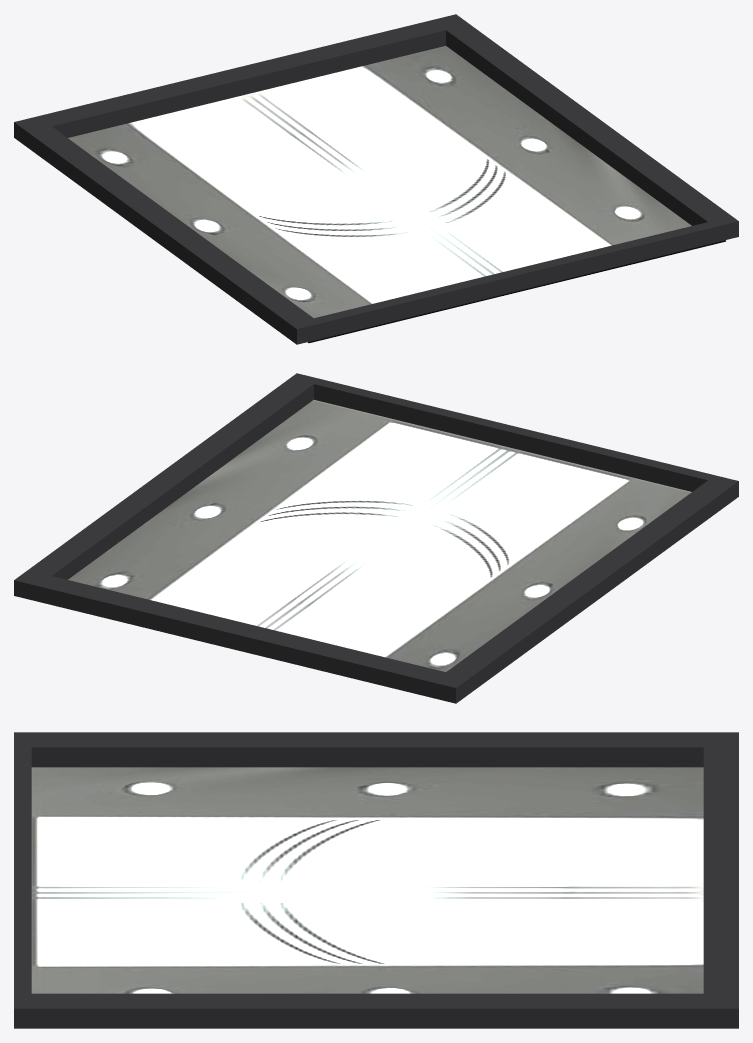
Rendered from ceiling_DD103.glb.
3 views of the same model, one above another, from view 1: azimuth 30°, elevation 25°; view 2: azimuth 150°, elevation 25°; view 3: azimuth 270°, elevation 25° (orthographic). The views are drawn at different scales.
Visible parts, largest first — view 1: Ceiling_Shell, Ceiling_Mirror, Ceiling_Panel_R, Ceiling_Panel_L; view 2: Ceiling_Shell, Ceiling_Mirror, Ceiling_Panel_R, Ceiling_Panel_L; view 3: Ceiling_Shell, Ceiling_Mirror, Ceiling_Panel_L, Ceiling_Panel_R.
Boxes of the visible parts, left/top/right/bottom form: Ceiling_Shell: left=14, top=14, right=738, bottom=344; Ceiling_Mirror: left=173, top=76, right=592, bottom=310; Ceiling_Panel_R: left=322, top=46, right=726, bottom=273; Ceiling_Panel_L: left=68, top=112, right=442, bottom=343; Ceiling_Shell: left=14, top=373, right=738, bottom=703; Ceiling_Mirror: left=192, top=430, right=586, bottom=646; Ceiling_Panel_R: left=68, top=400, right=437, bottom=609; Ceiling_Panel_L: left=341, top=466, right=691, bottom=671; Ceiling_Shell: left=14, top=732, right=738, bottom=1028; Ceiling_Mirror: left=31, top=845, right=703, bottom=939; Ceiling_Panel_L: left=31, top=767, right=703, bottom=845; Ceiling_Panel_R: left=31, top=939, right=703, bottom=993.
Bounding box in the file's own units: 1.48 × 0.056 × 1.64.
3 materials, 1 textured.
